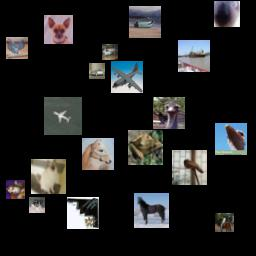airplane: (44, 97, 82, 135), (111, 61, 143, 93), (67, 197, 99, 229)
automobile: (89, 63, 105, 79)
bird: (172, 150, 207, 185), (153, 97, 185, 129), (215, 123, 247, 155), (6, 37, 28, 59)
cat: (31, 159, 66, 194), (214, 1, 240, 27)
dog: (44, 15, 73, 44), (6, 180, 25, 199), (29, 197, 45, 213)
frog: (128, 130, 163, 165)
ship: (178, 40, 210, 72), (129, 6, 161, 38)
truck: (102, 44, 118, 60)
